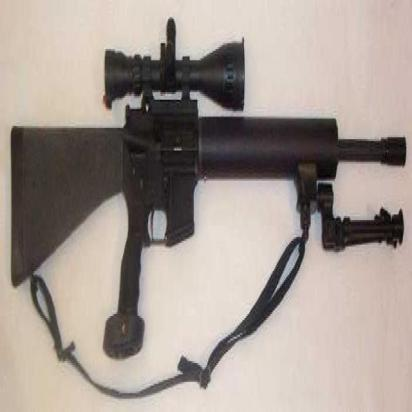Gun: (6, 21, 409, 372)
